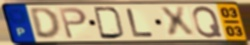D: (28, 7, 63, 41), (92, 6, 127, 40)
L: (124, 7, 156, 38)
P: (57, 7, 89, 41)
Q: (191, 5, 225, 39)
X: (157, 5, 198, 39)
